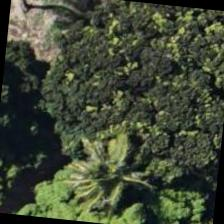Kelapa_Sawit: (60, 122, 159, 222)
